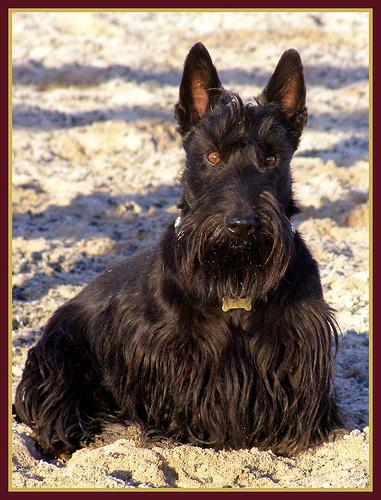dog-scottish_terrier: (173, 41, 306, 264)
